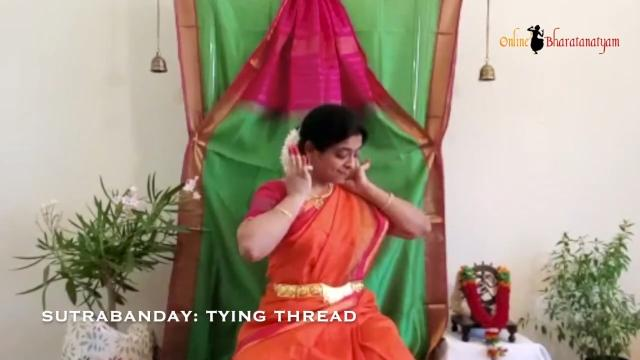hansaasya: (278, 138, 328, 216)
